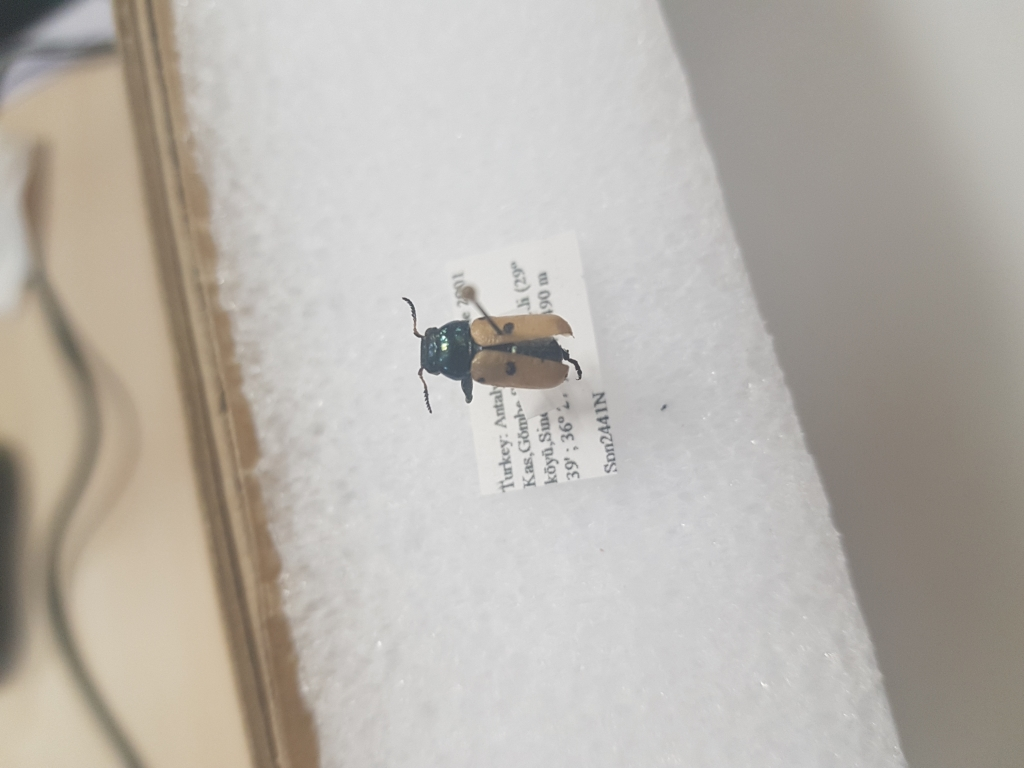Labidostomis_maculipennis: (398, 294, 585, 399)
